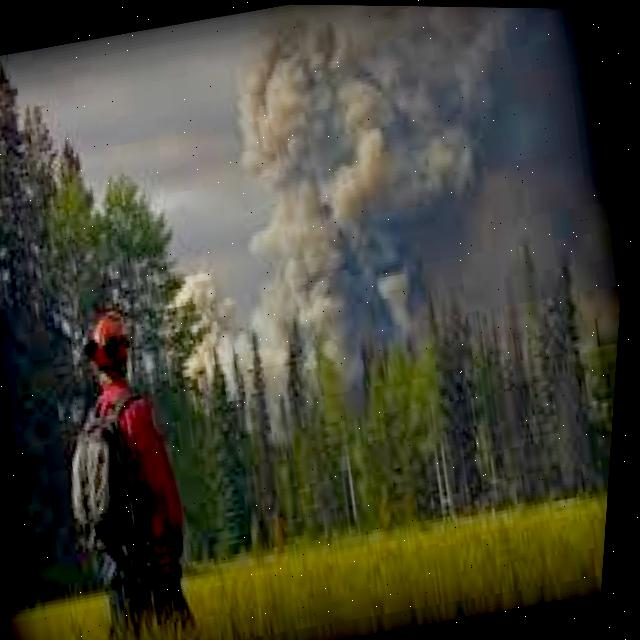smoke: (243, 4, 625, 420), (179, 270, 245, 387)
